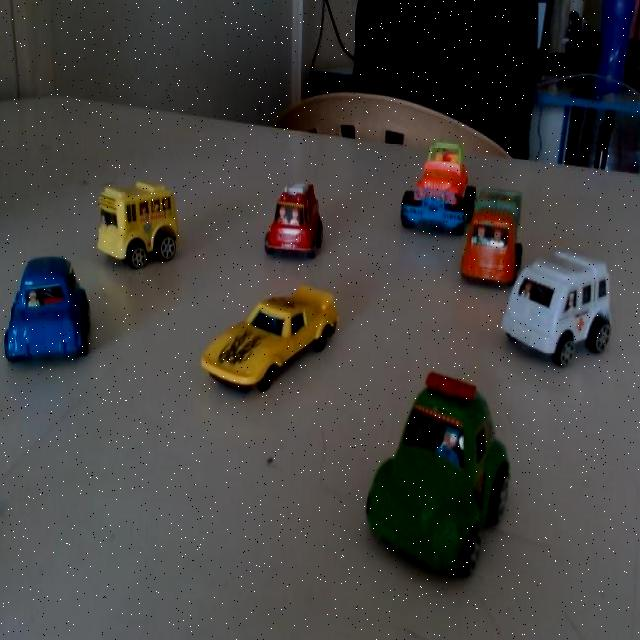car: (371, 376, 524, 559), (204, 274, 341, 399), (501, 236, 617, 379), (0, 248, 96, 379), (102, 179, 187, 277), (391, 133, 470, 232), (462, 176, 527, 292), (266, 171, 335, 270)
